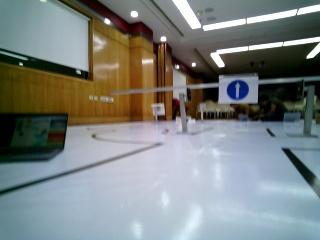straight: (222, 77, 260, 102)
